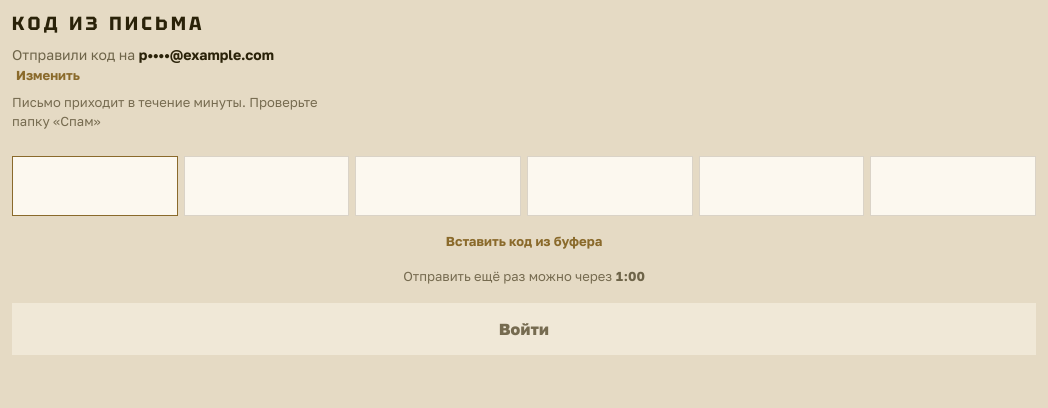
Test: CodeStep › в буфере не код — говорим об этом, а не молчим
Step 1. Click the button with test id "paste-code" → [524, 241], box [446,232,602,251]
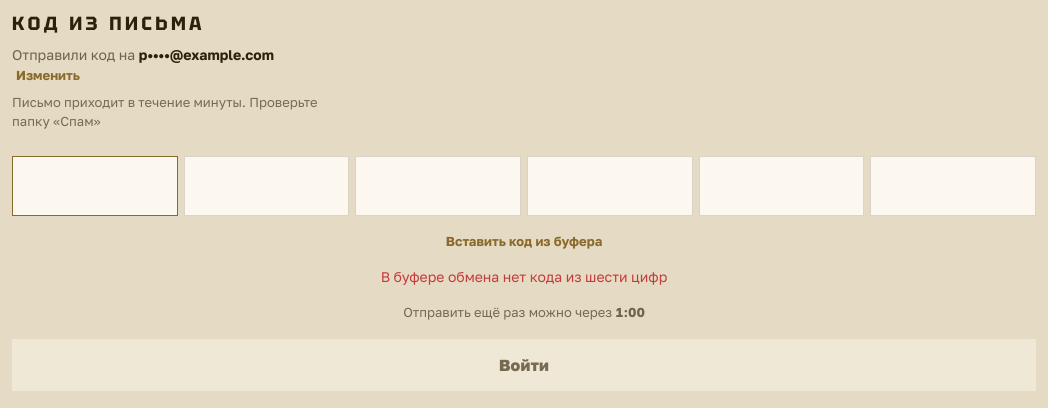
Check: the text with test id "code-error" shows "нет кода из шести цифр", box [381,268,667,285]
